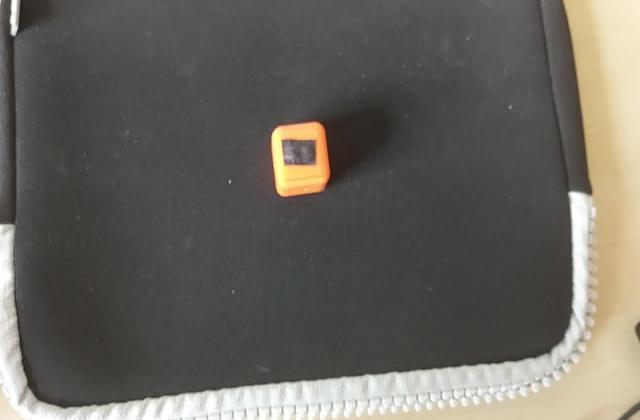black: (279, 135, 321, 170)
sticker: (268, 118, 334, 201)
